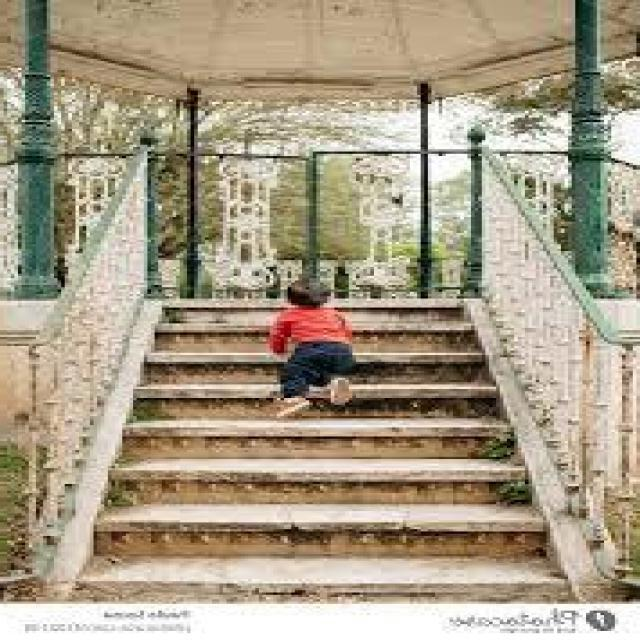child: (244, 244, 395, 422)
